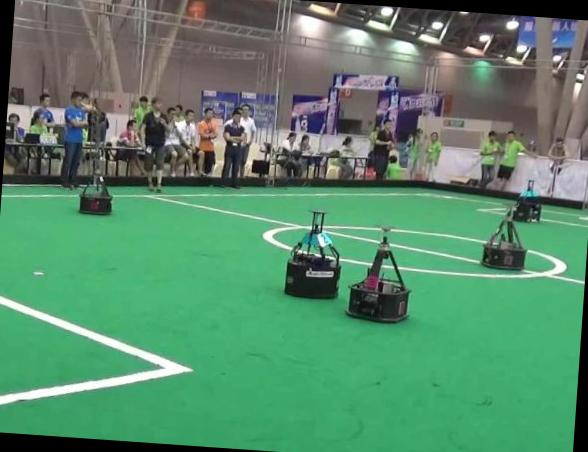person: (61, 90, 87, 188), (144, 97, 167, 191), (221, 109, 246, 187)
robot: (346, 235, 408, 321), (285, 210, 341, 298), (481, 214, 526, 269), (80, 161, 113, 214), (514, 180, 541, 221)
